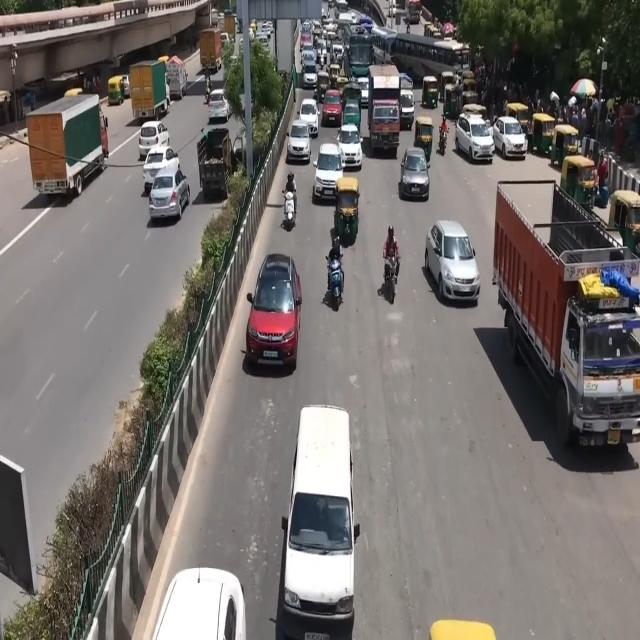auto: (328, 172, 365, 258), (609, 189, 640, 258), (560, 153, 598, 209), (551, 122, 581, 168), (530, 112, 557, 158), (504, 101, 530, 141), (414, 116, 434, 164), (443, 82, 461, 119), (421, 75, 439, 109), (107, 76, 125, 106), (440, 70, 454, 102), (461, 88, 480, 111), (316, 73, 330, 103), (328, 62, 342, 86)
bike-auto: (380, 222, 405, 316), (326, 229, 346, 335), (280, 166, 300, 244), (438, 112, 450, 166), (205, 75, 212, 103)
